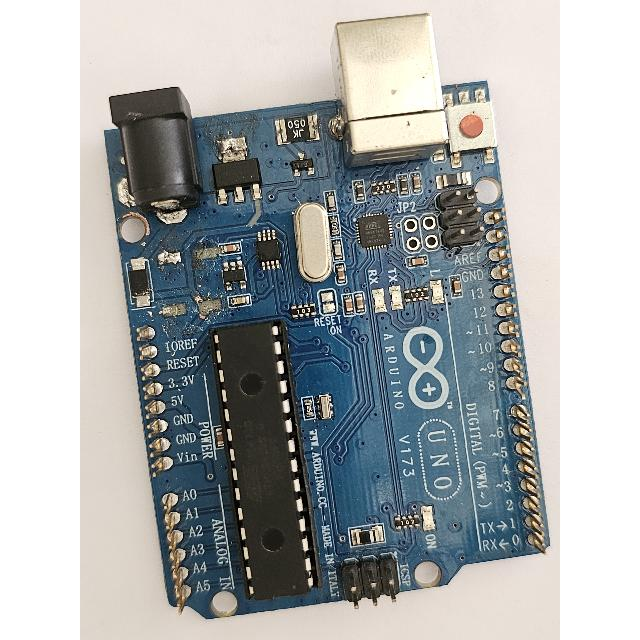missing_analog_pins: (125, 321, 195, 624)
missing_capacitors: (145, 231, 230, 325)
missing_digital_pins: (482, 201, 555, 558)
